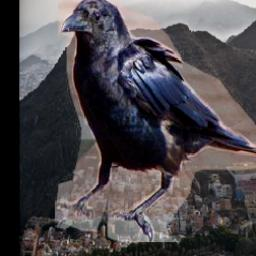Crow: (55, 0, 256, 243)
